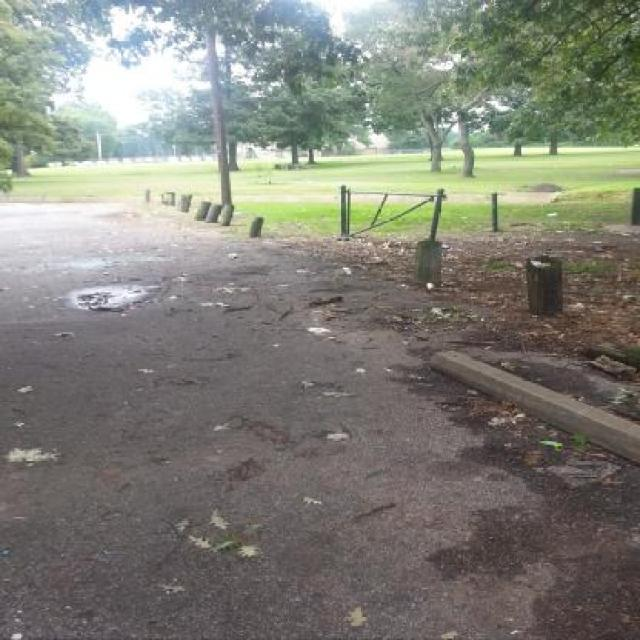garbage: (117, 485, 296, 582), (199, 282, 378, 346), (474, 401, 617, 476), (500, 225, 640, 259), (594, 245, 640, 346), (285, 231, 409, 266), (1, 430, 64, 489), (77, 288, 180, 322)
